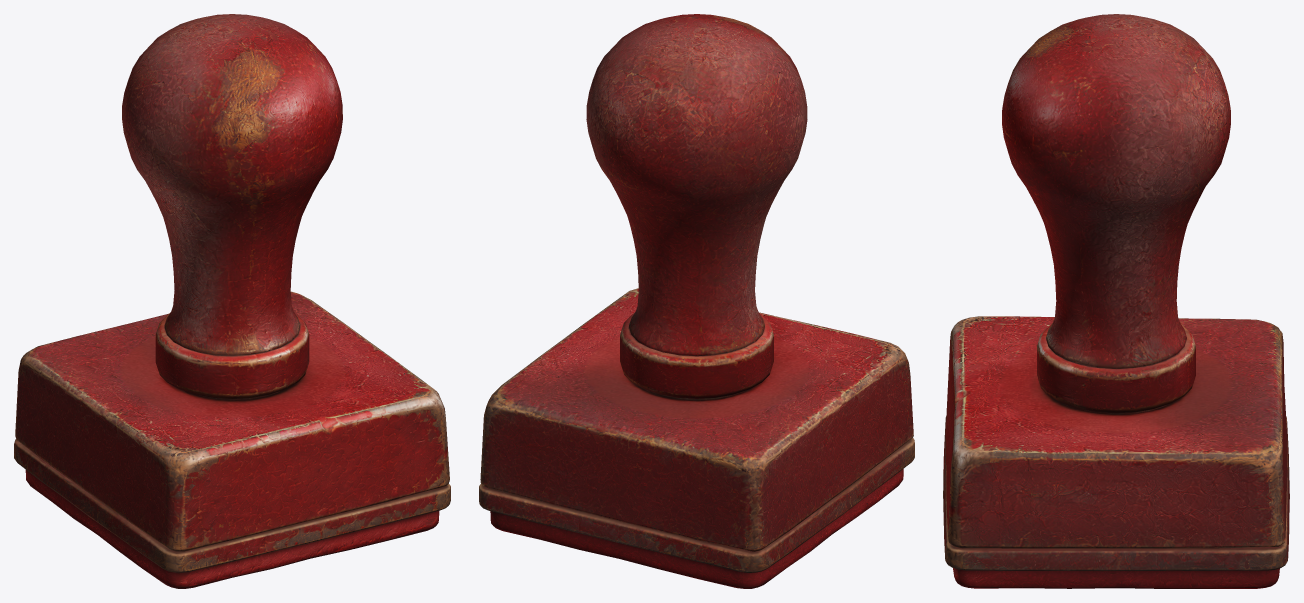
Rendered from Reject_Stamp.fbx.
3 renders of one model, left to right at view 1: azimuth 30°, elevation 25°; view 2: azimuth 150°, elevation 25°; view 3: azimuth 270°, elevation 25°, orthographic. The views are drawn at different scales.
Parts seen in each view (by area): view 1: tripo_744b33df_37ce_4851_9be8_a8bc22c067b7; view 2: tripo_744b33df_37ce_4851_9be8_a8bc22c067b7; view 3: tripo_744b33df_37ce_4851_9be8_a8bc22c067b7.
Boxes of the visible parts, x1=… form: tripo_744b33df_37ce_4851_9be8_a8bc22c067b7: x1=14, y1=14, x2=450, y2=588; tripo_744b33df_37ce_4851_9be8_a8bc22c067b7: x1=479, y1=14, x2=914, y2=588; tripo_744b33df_37ce_4851_9be8_a8bc22c067b7: x1=943, y1=14, x2=1289, y2=588.
Bounding box in the file's own units: 0.6392 × 0.9995 × 0.6392.
Materials: 1 (1 with a texture image).
